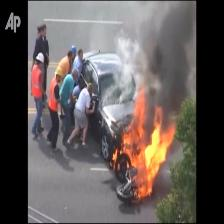fire: (131, 124, 165, 197)
smoke: (145, 15, 193, 108)
